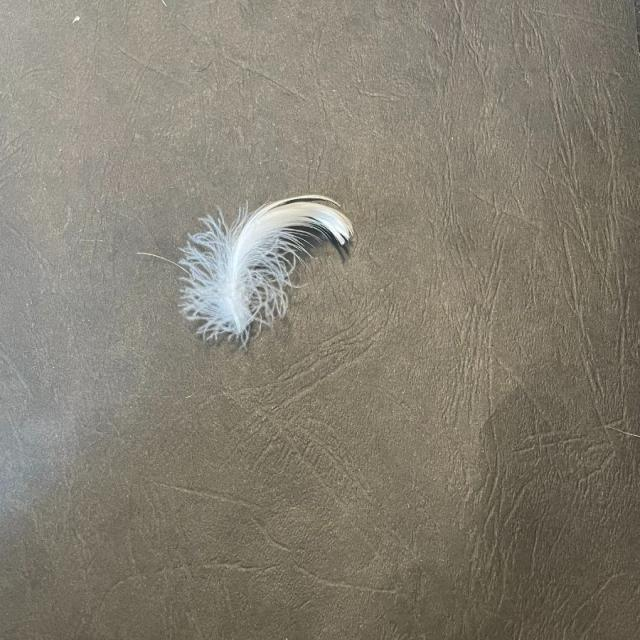feather: (177, 195, 353, 348)
